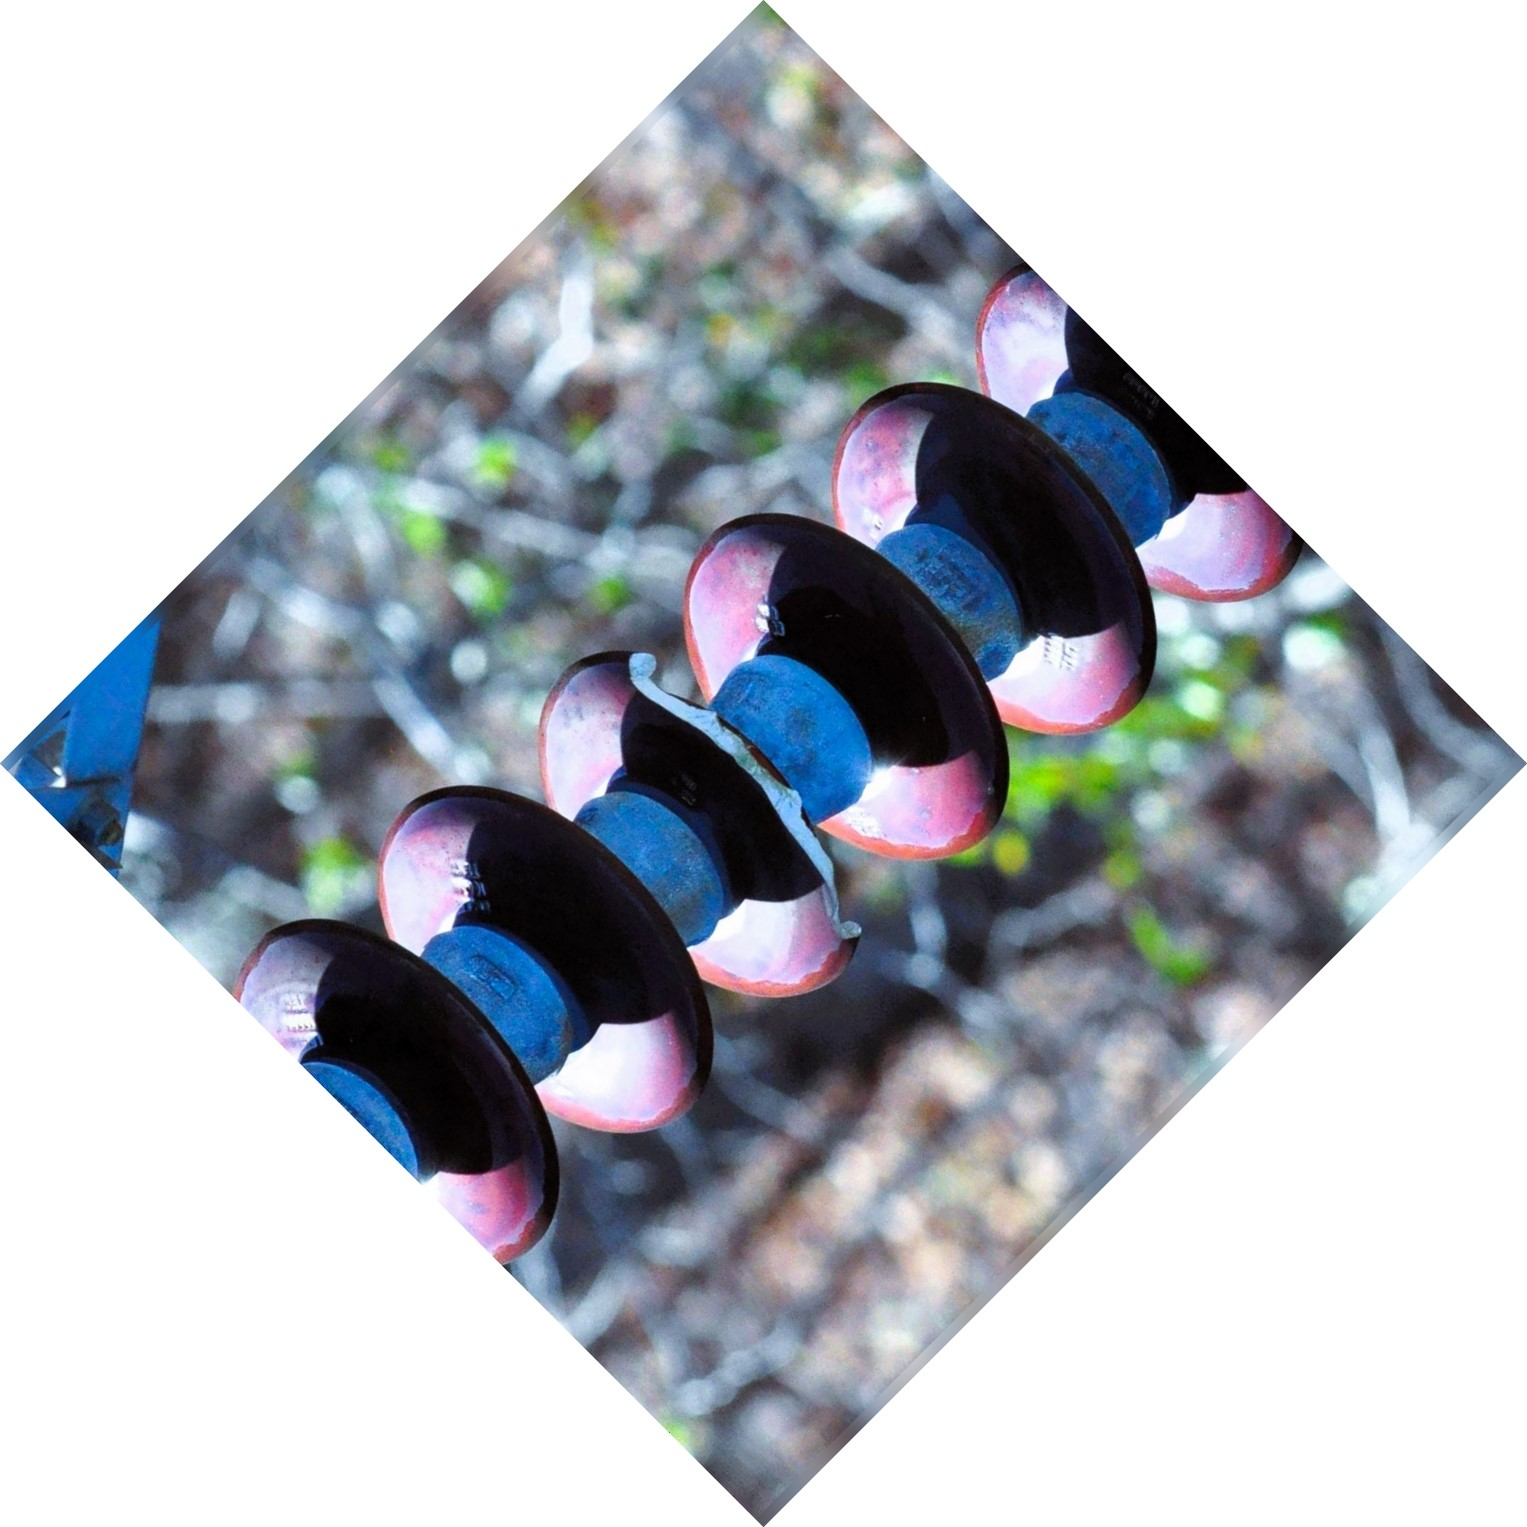insulator breakage: (516, 631, 887, 1014)
